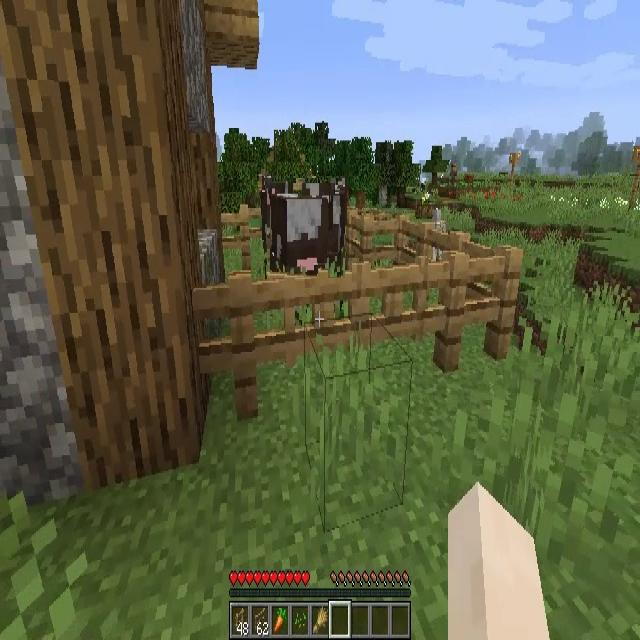cow: (267, 178, 345, 278)
